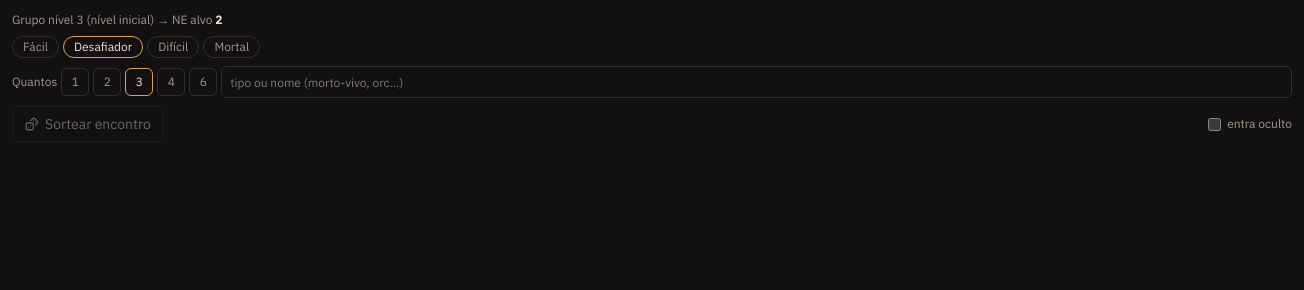
Scenario: EncounterPanel › sorteia pelo nível do grupo e põe todos no mapa
This screenshot has width=1304, height=290.
Expected: the text "Grupo nível 3 (nível inicial) → NE alvo 2" is shown, [12, 12, 222, 27]
Click the button "Difícil". click: (173, 47)
box: [147, 36, 199, 58]
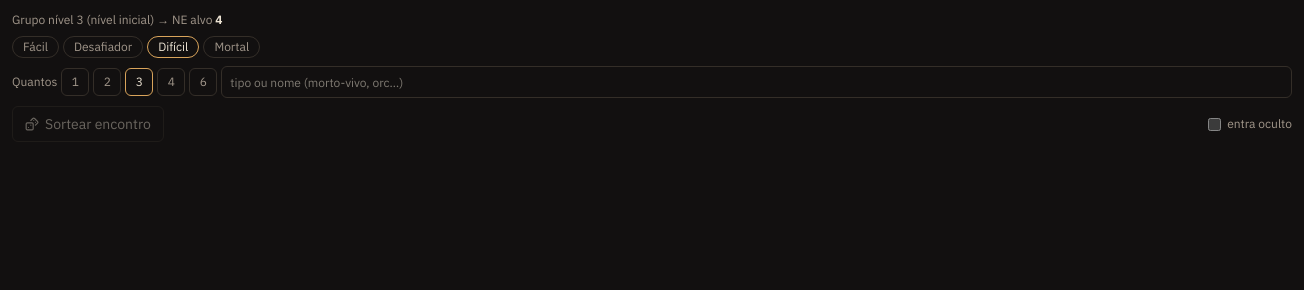
Click the button "2". click: (107, 82)
box: [93, 68, 121, 96]
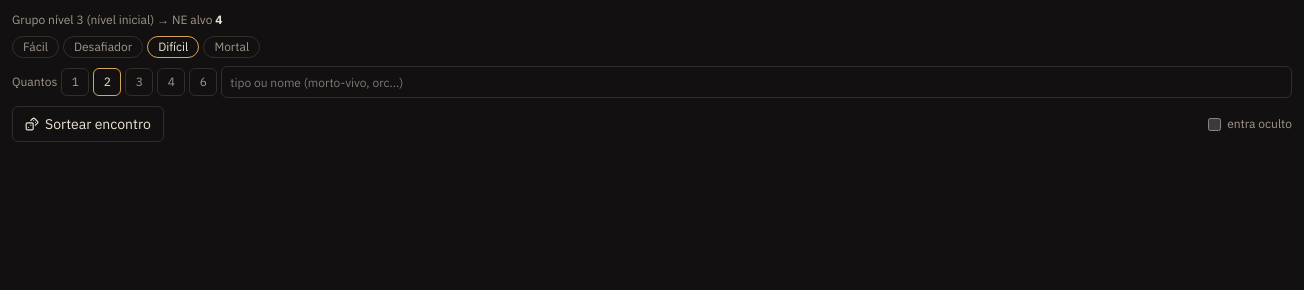
Now the button "Sortear encontro" is enabled
Click the button "Sortear encontro". click: (88, 124)
box: [12, 106, 164, 142]
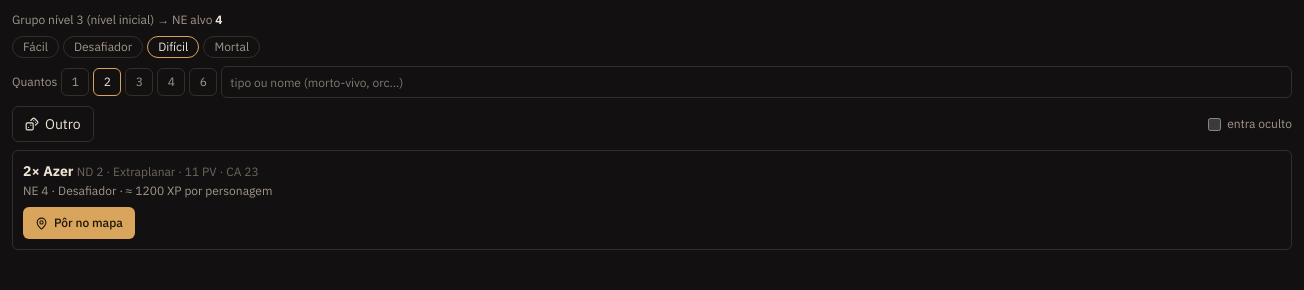
Now the text "2× Azer" is shown, box [23, 162, 74, 180]
Now the text "NE 4 · Desafiador · ≈ 1200 XP por personagem" is shown, box [23, 183, 272, 198]
Click the button "Pôr no mapa". click: (79, 223)
box: [23, 207, 135, 239]
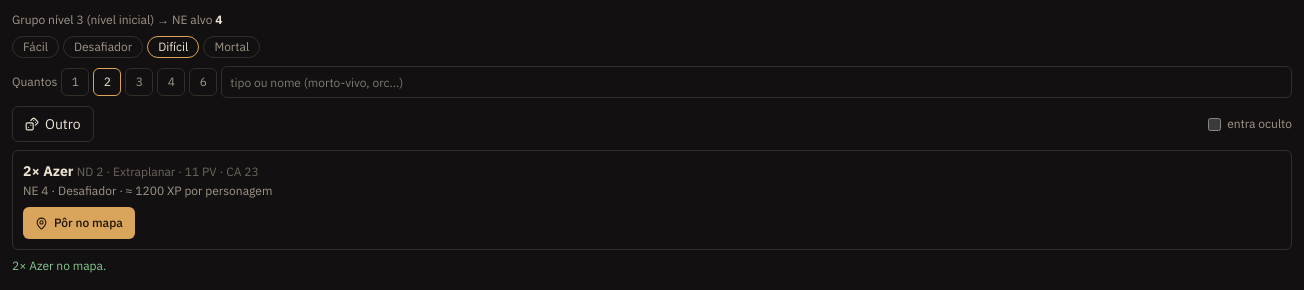
Now the message shows "no mapa", box [12, 258, 106, 273]
